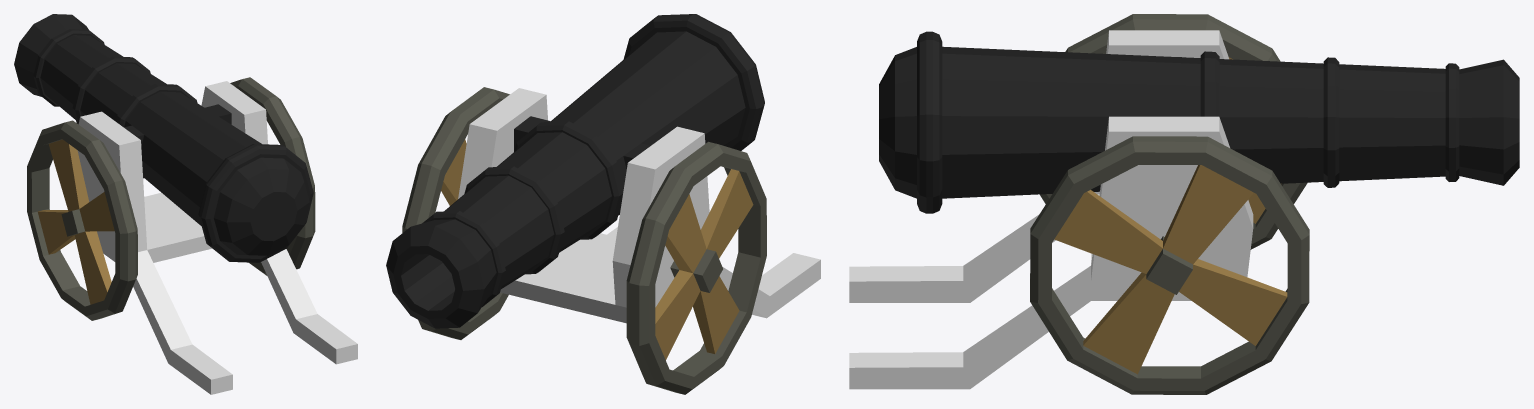
File: Cannon.fbx
The picture shows the model from 3 angles, left to right: view 1: azimuth 30°, elevation 25°; view 2: azimuth 150°, elevation 25°; view 3: azimuth 270°, elevation 25°; orthographic projection. The views are drawn at different scales.
Parts seen in each view (by area): view 1: Cylinder, Cube, Cylinder.002, Cylinder.001; view 2: Cylinder, Cylinder.002, Cube, Cylinder.001; view 3: Cylinder, Cylinder.001, Cube, Cylinder.002.
Part boxes in pixels (x1,y1,x2,y2): Cylinder: (14,14,313,262); Cube: (77,81,357,394); Cylinder.002: (27,120,137,320); Cylinder.001: (230,77,315,275); Cylinder: (386,14,764,328); Cylinder.002: (626,141,766,394); Cube: (458,88,820,323); Cylinder.001: (402,87,509,339); Cylinder: (879,31,1519,213); Cylinder.001: (1030,136,1309,394); Cube: (849,30,1253,389); Cylinder.002: (1039,14,1307,249).
Bounding box in the file's own units: 424 × 423 × 860.
